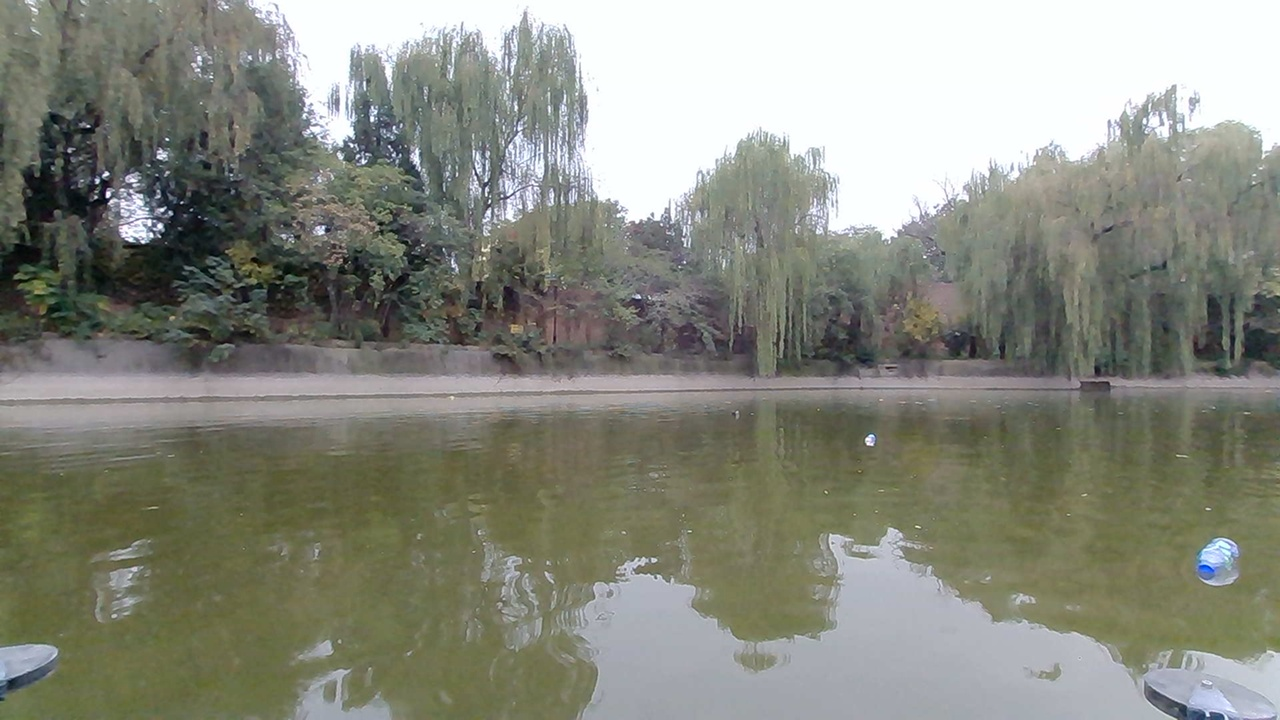bottle: (1189, 538, 1247, 588), (842, 423, 881, 452), (719, 401, 747, 427)
